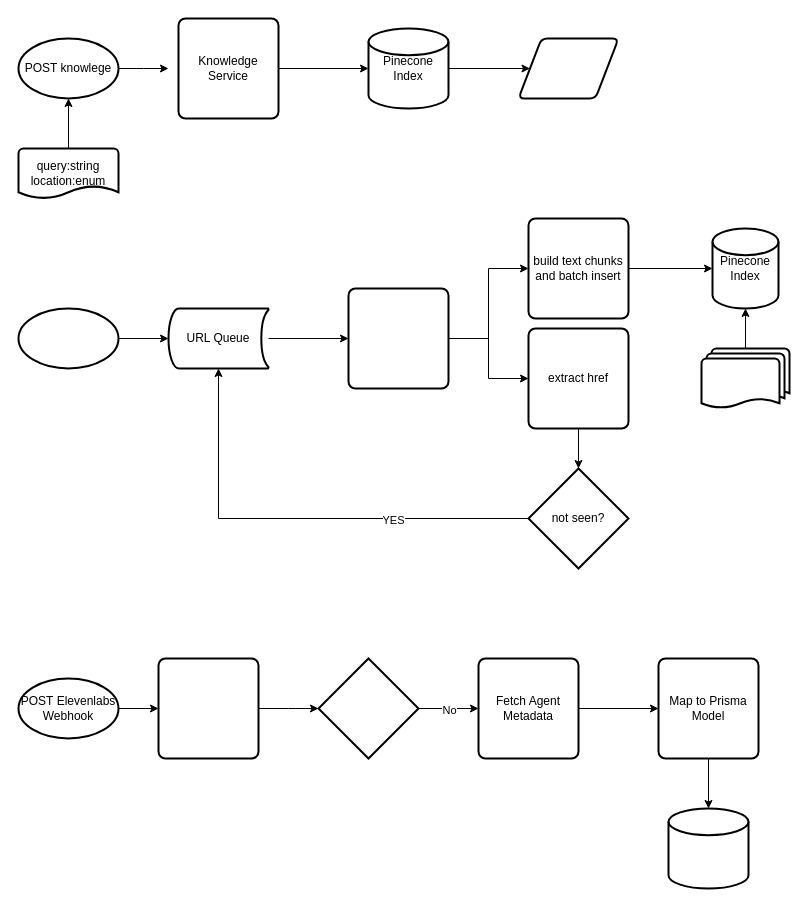
Image size: 807x906. Some labels were removed from this diagram. The shapes that lost their labels are listed below. From the top down, each one's box as (x1, y1, x2, y2) in pixels, then its label:
(517, 37, 619, 99): return top 5
(17, 307, 119, 369): run ingest hotel script
(347, 287, 449, 389): Scrape webpage
(157, 657, 259, 759): Signature Verification (HMAC SHA-256)
(317, 657, 419, 759): already in database ?
(667, 807, 749, 889): PostgreSQL
